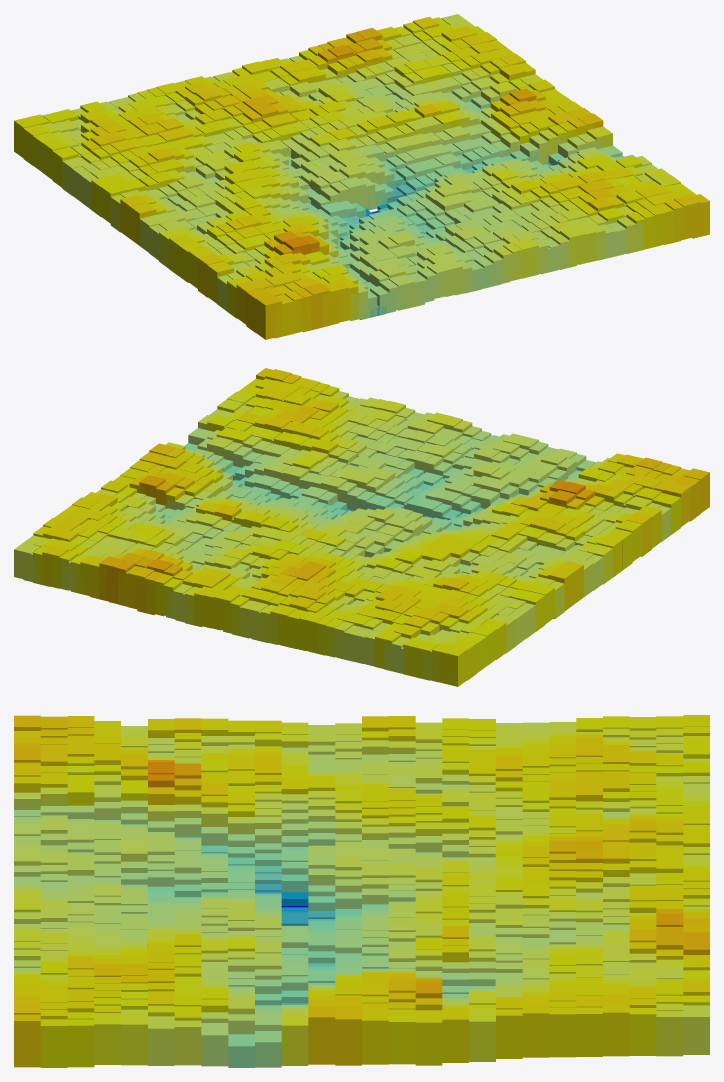
The model's file is population.glb.
3 renders of one model, top to bottom at view 1: azimuth 30°, elevation 25°; view 2: azimuth 150°, elevation 25°; view 3: azimuth 270°, elevation 25°, orthographic. The views are drawn at different scales.
Visible parts, largest first — view 1: population; view 2: population; view 3: population.
Boxes of the visible parts, x1=… form: population: x1=14, y1=14, x2=709, y2=339; population: x1=14, y1=368, x2=709, y2=686; population: x1=14, y1=715, x2=709, y2=1067.
Size of the model in its own units: 2650 by 249 by 2601.
